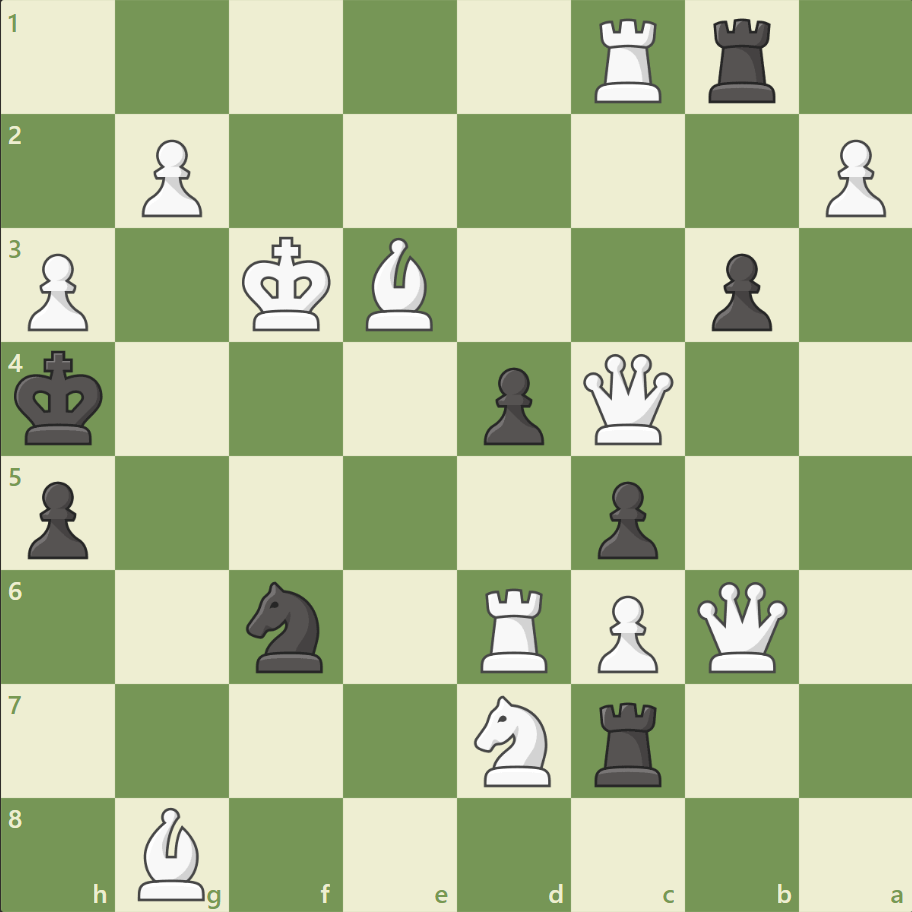B: (131, 801, 215, 904), (358, 233, 442, 336)
K: (238, 231, 338, 339)
N: (465, 688, 562, 791)
P: (20, 246, 95, 337), (133, 132, 208, 223), (588, 586, 662, 677), (815, 132, 889, 223)
Q: (691, 576, 790, 676), (578, 349, 677, 449)
R: (473, 579, 556, 676), (587, 12, 670, 109)
k: (11, 344, 111, 452)
n: (238, 575, 335, 677)
p: (20, 473, 95, 564), (474, 359, 549, 450), (701, 246, 776, 337), (588, 473, 662, 564)
r: (587, 693, 670, 790), (700, 12, 783, 109)
